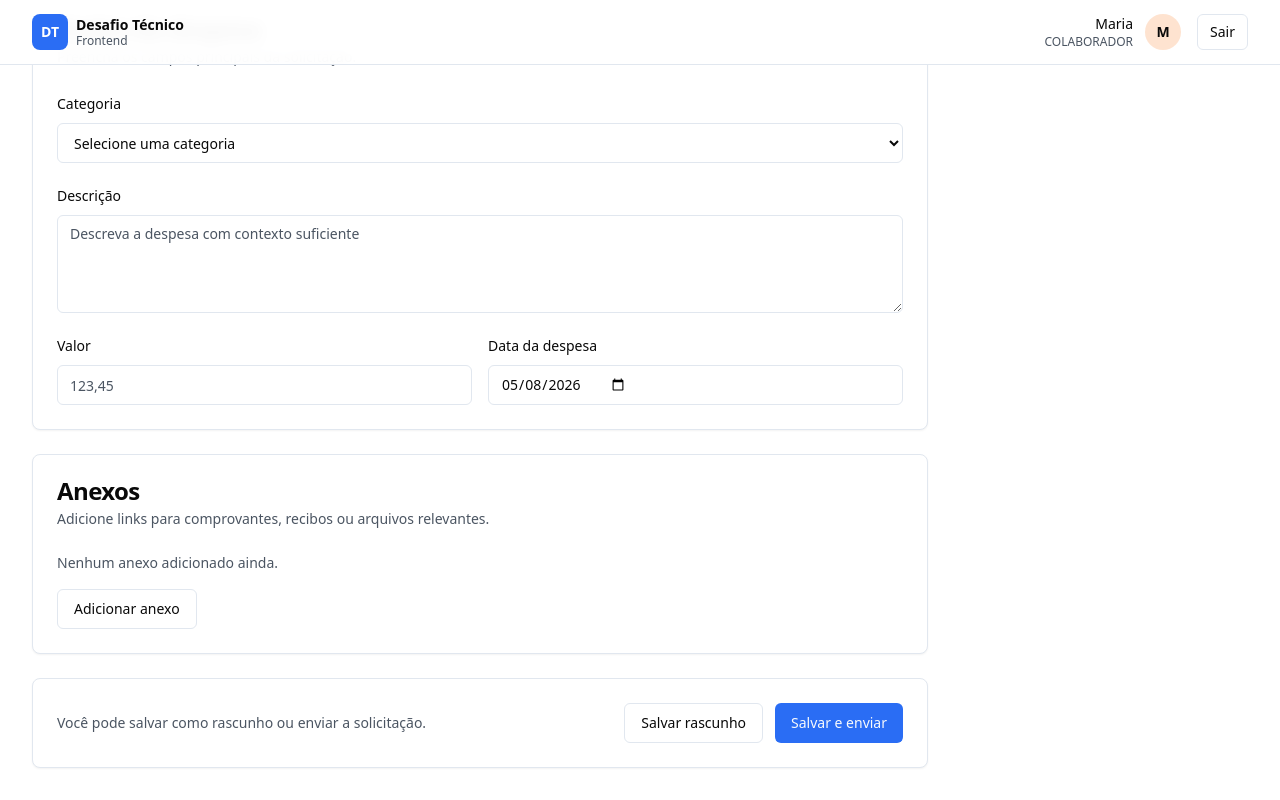
Test: ReimbursementFormPage (modo create) › permite adicionar e remover anexos
(page scrolled)
Expected: the text "Nenhum anexo adicionado ainda." is shown, [57,553,278,572]
Click the button "Adicionar anexo" at (127, 609), box [57,589,197,629]
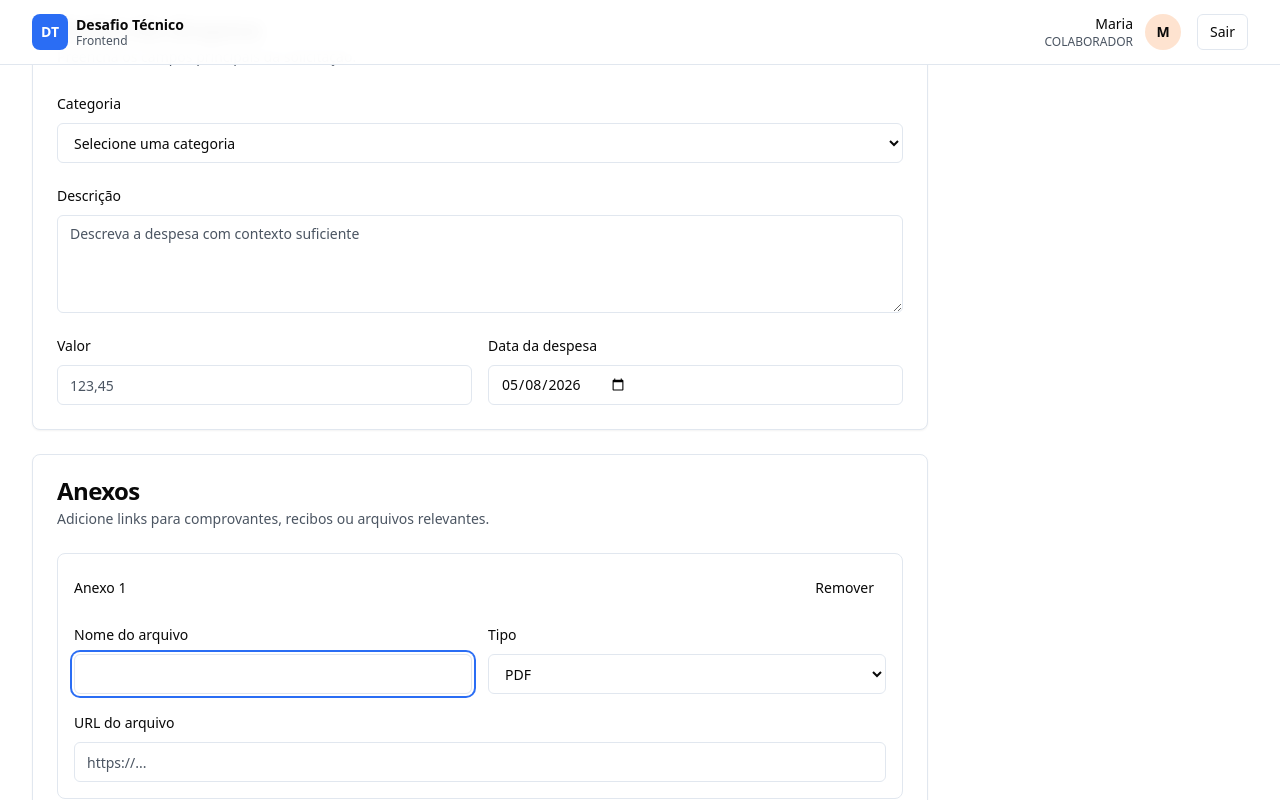
Now the text "Anexo 1" is shown, box [74,578,126,598]
Now the text "Nenhum anexo adicionado ainda." is gone
Click the button "Remover" at (845, 588), box [803,570,886,606]
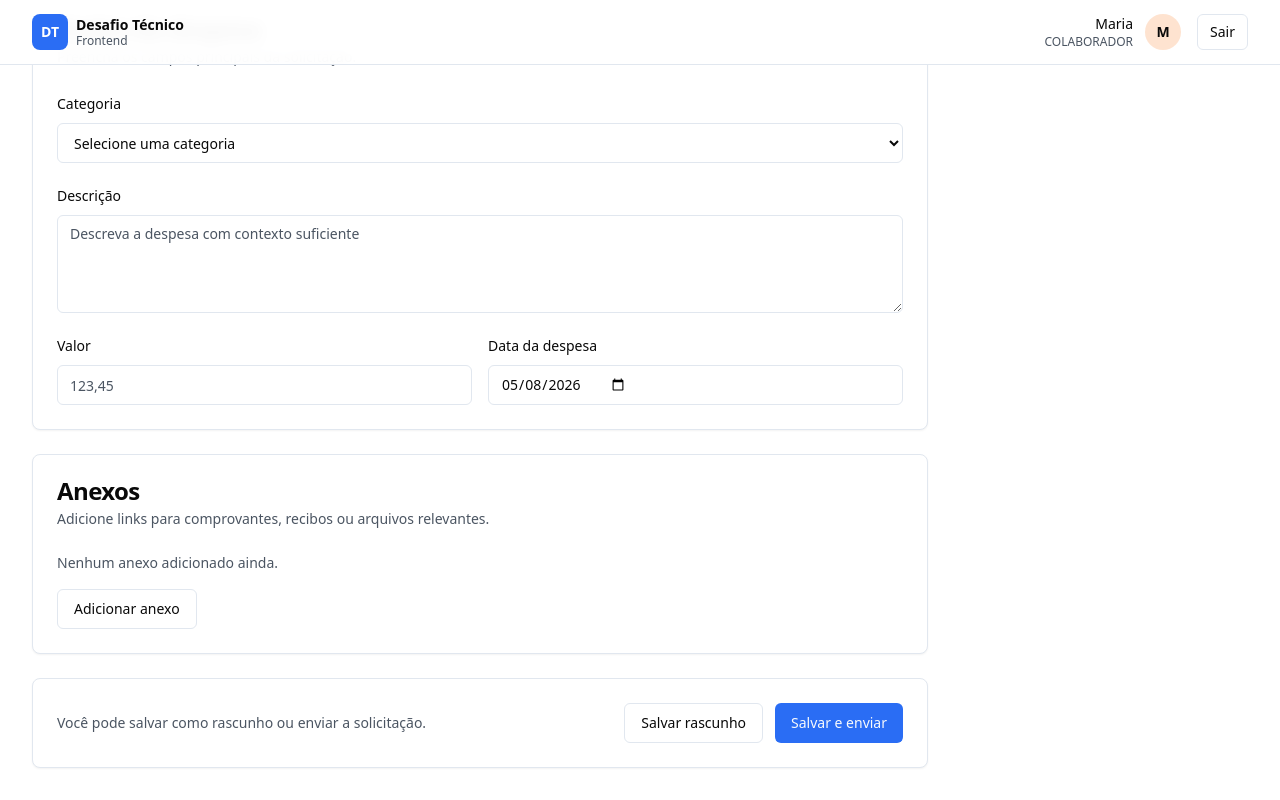
Now the text "Anexo 1" is gone
Now the text "Nenhum anexo adicionado ainda." is shown, box [57,553,278,572]
